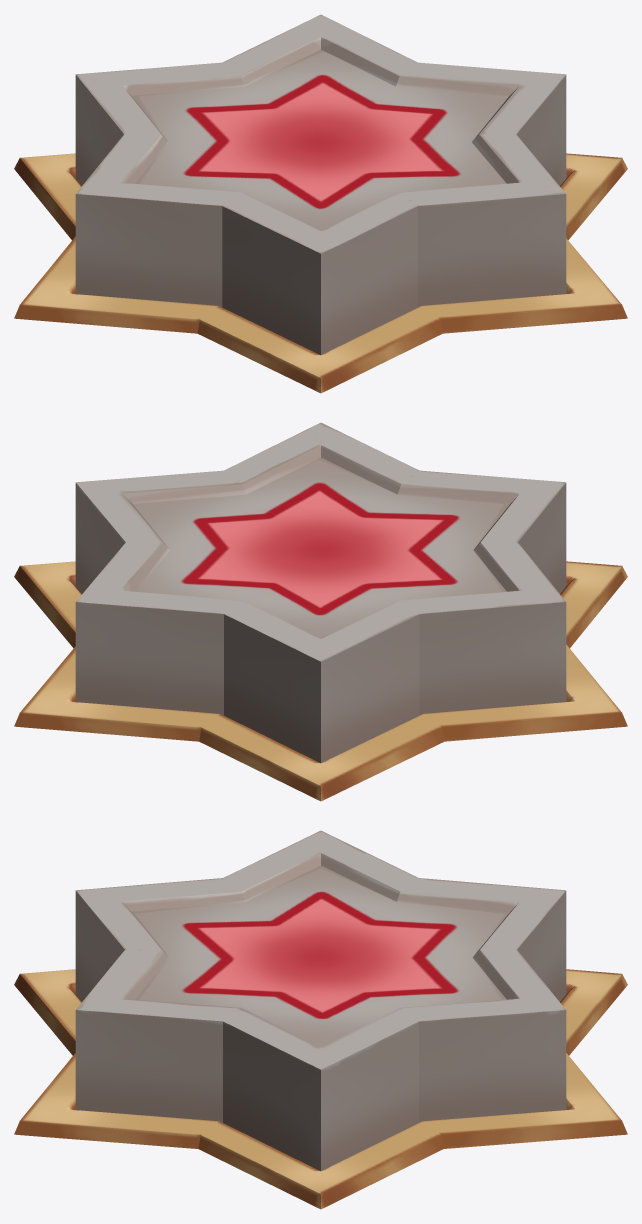
File: gold_button_hera.FBX
The picture shows the model from 3 angles, top to bottom: view 1: azimuth 30°, elevation 25°; view 2: azimuth 150°, elevation 25°; view 3: azimuth 270°, elevation 25°; orthographic projection.
Parts seen in each view (by area): view 1: Object027; view 2: Object027; view 3: Object027.
Part boxes in pixels (bbox=[...]): Object027: bbox=[14, 14, 627, 393]; Object027: bbox=[14, 422, 627, 801]; Object027: bbox=[14, 830, 627, 1209].
Bounding box in the file's own units: 349 × 59.52 × 302.
